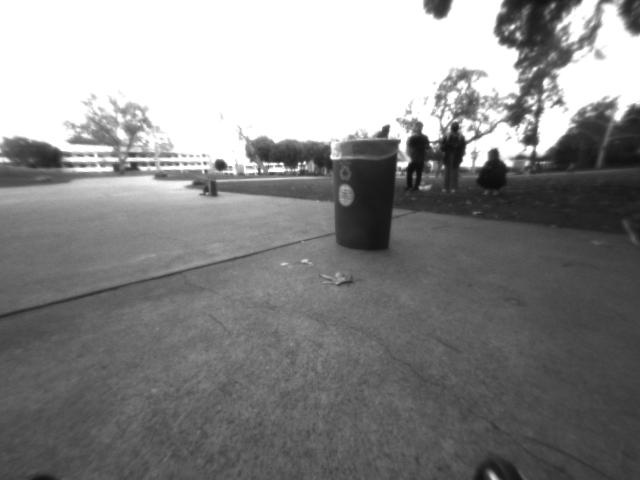trashcan_open: (323, 132, 402, 258)
